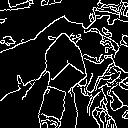cube: (40, 31, 90, 94)
